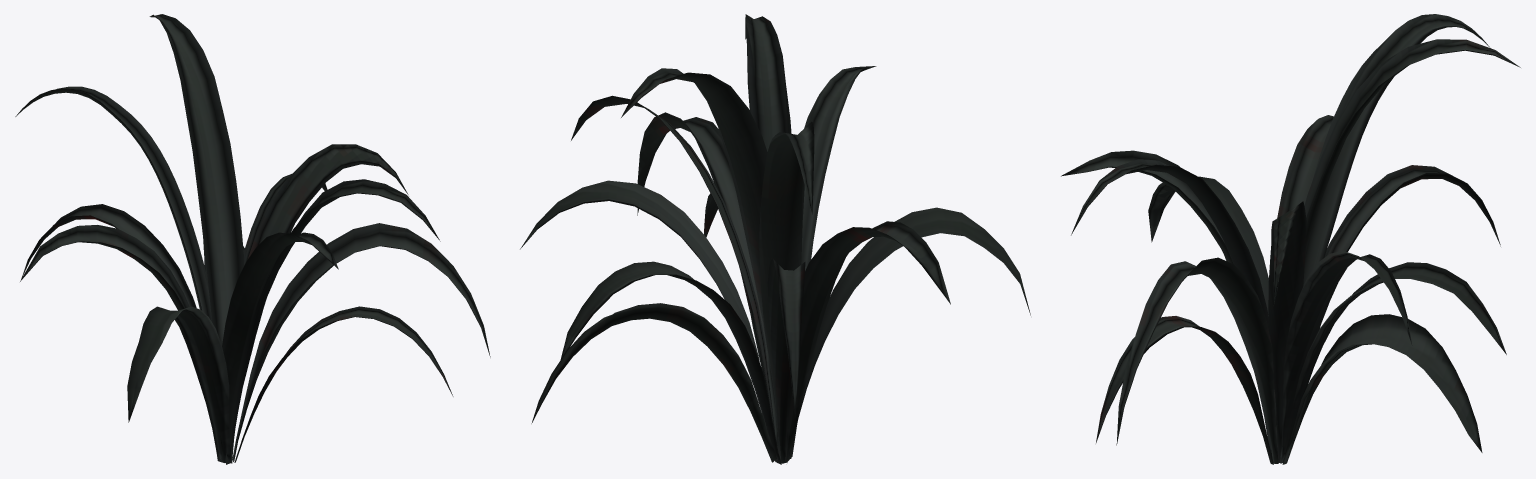
The model's file is cao.fbx.
The picture shows the model from 3 angles, left to right: view 1: azimuth 30°, elevation 25°; view 2: azimuth 150°, elevation 25°; view 3: azimuth 270°, elevation 25°; orthographic projection. The views are drawn at different scales.
Visible parts, largest first — view 1: AMcg_Plants_C_01; view 2: AMcg_Plants_C_01; view 3: AMcg_Plants_C_01.
Part boxes in pixels (x1=…): AMcg_Plants_C_01: x1=15, y1=14, x2=490, y2=464; AMcg_Plants_C_01: x1=520, y1=14, x2=1030, y2=464; AMcg_Plants_C_01: x1=1061, y1=14, x2=1520, y2=464.
Size of the model in its own units: 1.6 by 1.57 by 1.53.
1 material, 1 textured.
